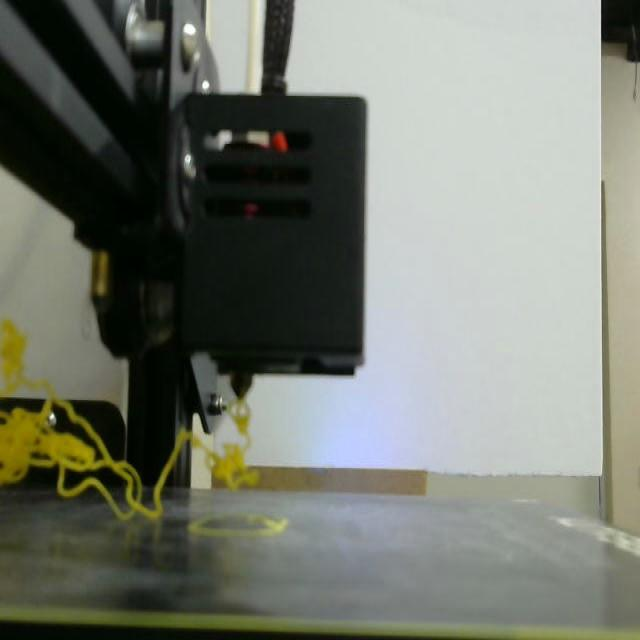spaghetti: (0, 320, 259, 520)
